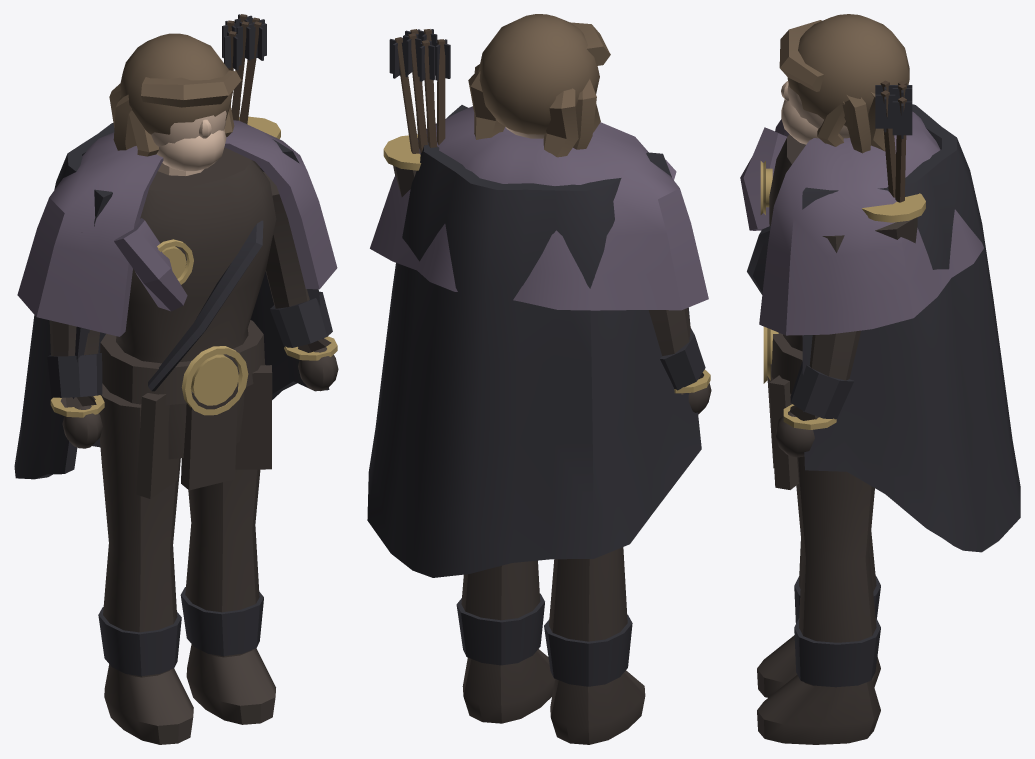
Rendered from archer.glb.
3 views of the same model, side by side, from view 1: azimuth 30°, elevation 25°; view 2: azimuth 150°, elevation 25°; view 3: azimuth 270°, elevation 25° (orthographic). The views are drawn at different scales.
Parts seen in each view (by area): view 1: Torso, LegL, Pelvis, LegR, Head, ArmR, ArmL; view 2: Torso, LegL, Head, LegR, ArmL; view 3: Torso, LegR, Head, ArmR, Pelvis, LegL.
Part boxes in pixels (bbox=[...]): Torso: bbox=[14, 14, 337, 479]; LegL: bbox=[98, 383, 193, 744]; Pelvis: bbox=[100, 320, 272, 498]; LegR: bbox=[180, 365, 275, 724]; Head: bbox=[109, 33, 241, 171]; ArmR: bbox=[263, 171, 338, 391]; ArmL: bbox=[47, 320, 104, 448]; Torso: bbox=[367, 29, 708, 577]; LegL: bbox=[544, 547, 645, 744]; Head: bbox=[468, 14, 610, 157]; LegR: bbox=[456, 560, 554, 723]; ArmL: bbox=[648, 308, 711, 414]; Torso: bbox=[740, 80, 1020, 552]; LegR: bbox=[757, 456, 880, 744]; Head: bbox=[779, 14, 909, 153]; ArmR: bbox=[776, 235, 860, 457]; Pelvis: bbox=[763, 326, 802, 489]; LegL: bbox=[757, 531, 880, 697].
Size of the model in its own units: 0.915 by 2 by 0.7362.
